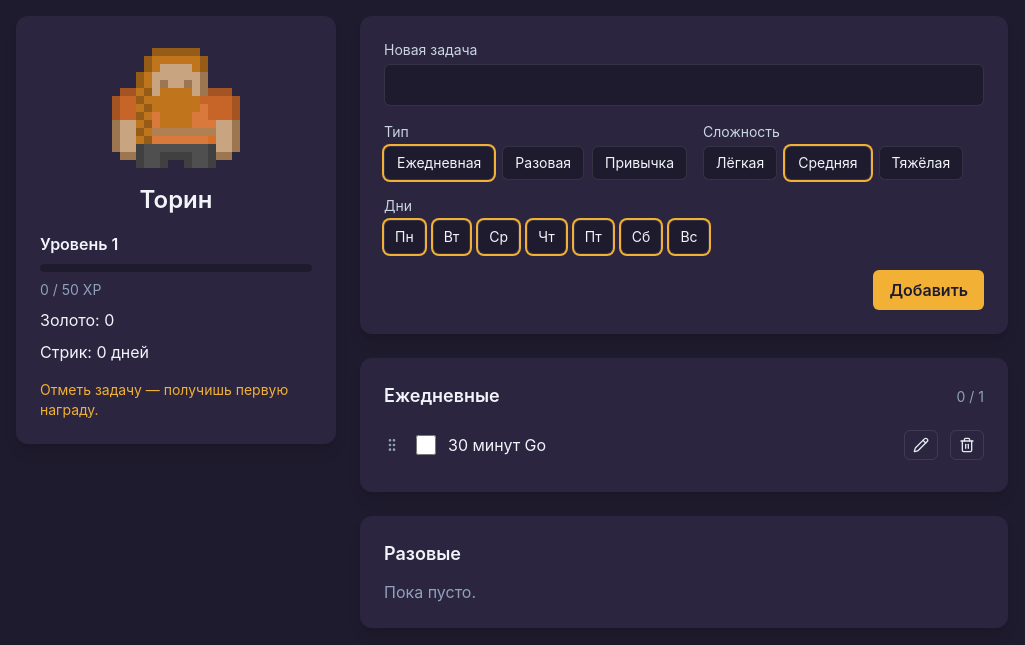
HomeView › tells which items a new level unlocked
Click the checkbox named "Выполнено: 30 минут Go".
click(426, 445)  # box [416, 435, 436, 455]
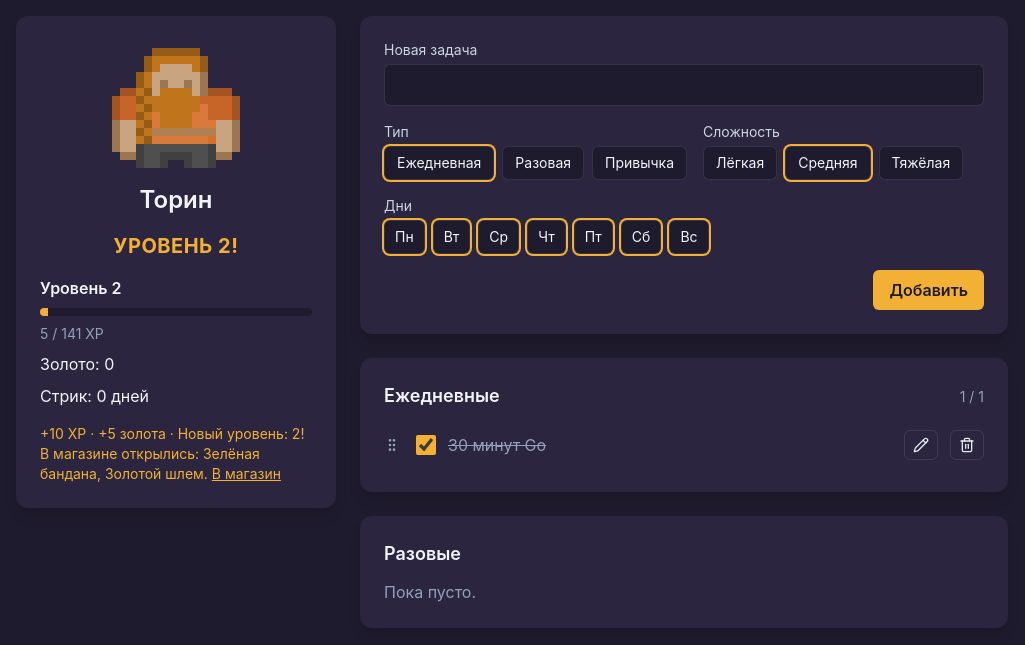
Expected: the message with test id "reward-notice" shows "+10 XP · +5 золота · Новый уровень: 2! В магазине открылись: Зелёная бандана, Золотой шлем. В магазин", [40, 424, 312, 484]
